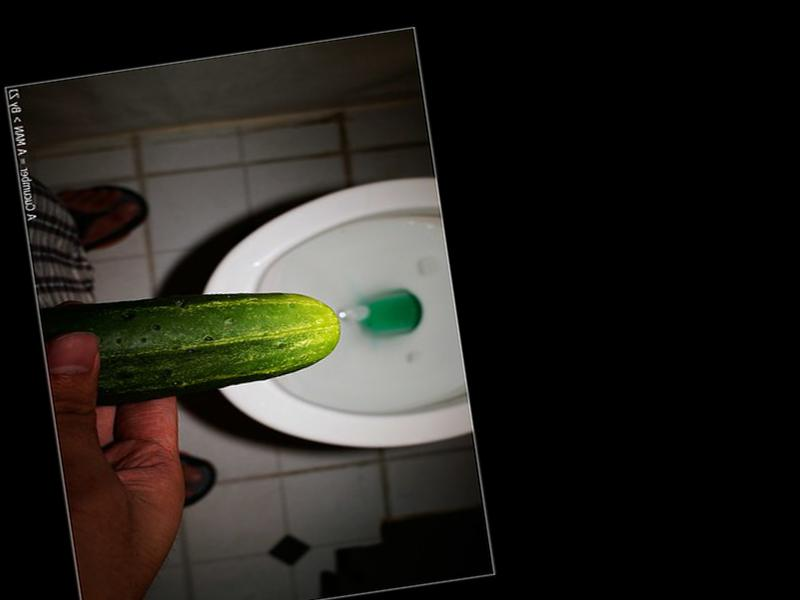Cucumber: (34, 266, 345, 413)
